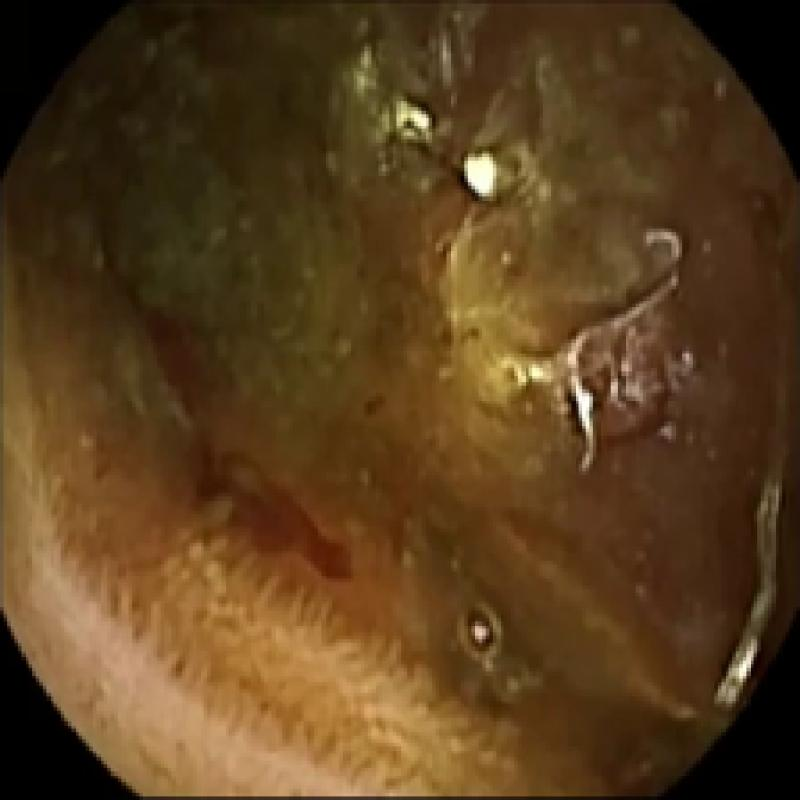bleeding: (195, 445, 357, 583), (100, 231, 216, 420), (150, 0, 236, 43)
